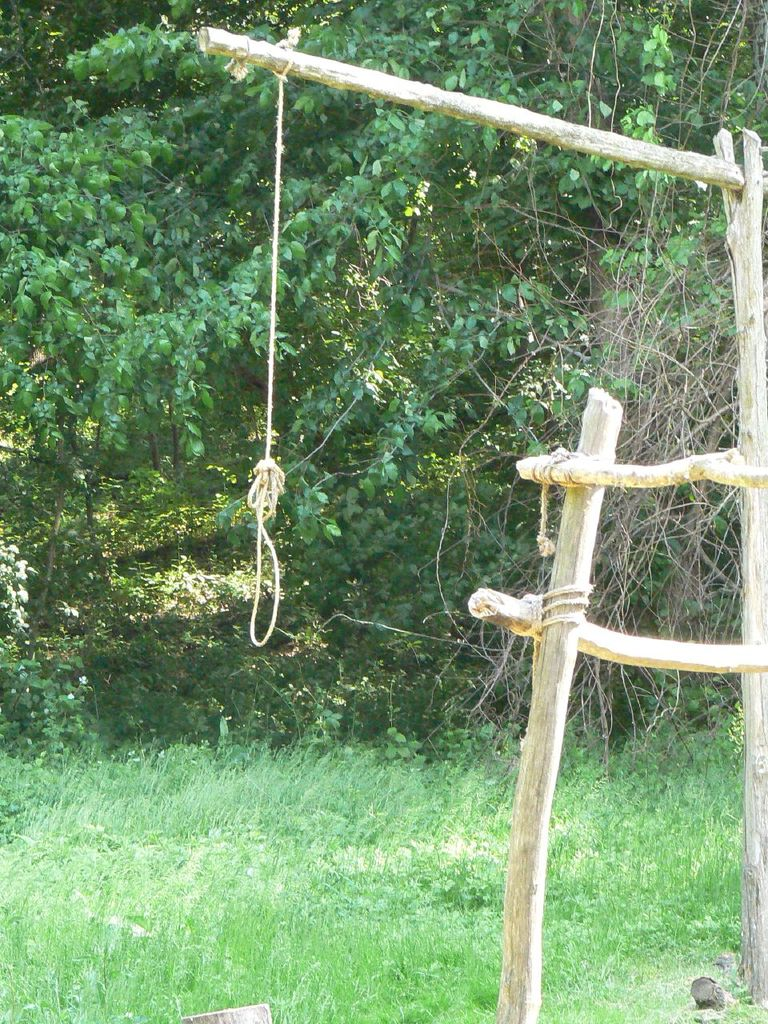Tree: (0, 1, 768, 766)
